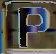Parking: (12, 4, 55, 48)
